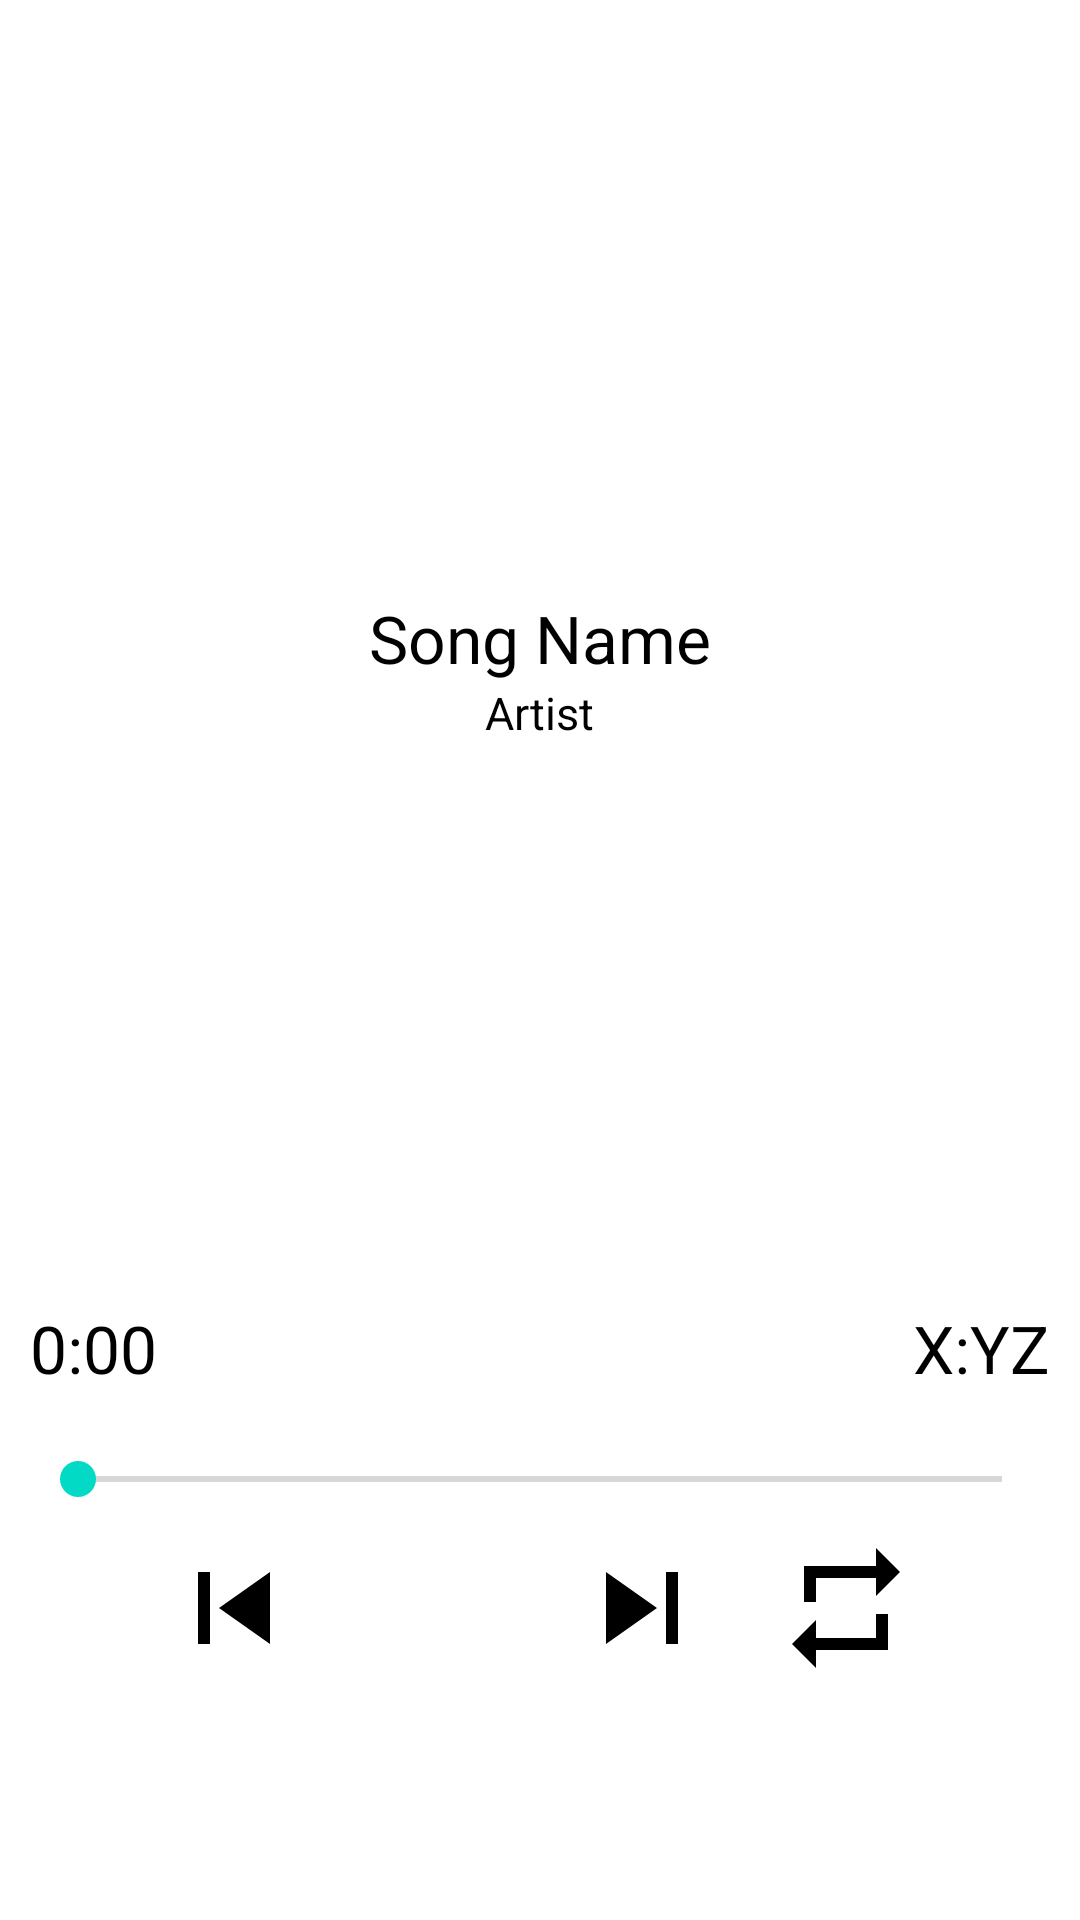

Icons on this 1080x1920 Android screen, each with the point to tap as [x,y]:
next: [642,1608]
previous: [234,1608]
repeat: [846,1608]
